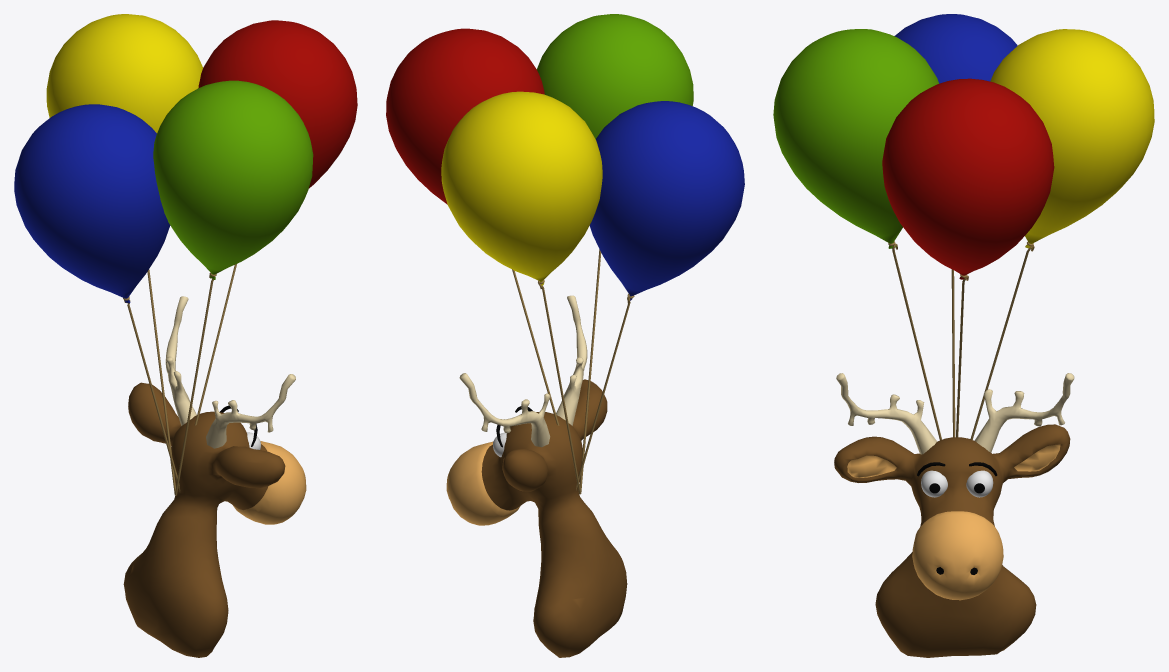
The model's file is reindeer-collectible.glb.
3 views of the same model, side by side, from view 1: azimuth 30°, elevation 25°; view 2: azimuth 150°, elevation 25°; view 3: azimuth 270°, elevation 25° (orthographic). The views are drawn at different scales.
Visible parts, largest first — view 1: Collectible; view 2: Collectible; view 3: Collectible.
Part boxes in pixels (x1,y1,x2,y2): Collectible: (14,14,357,657); Collectible: (386,14,744,657); Collectible: (773,14,1154,657).
Bounding box in the file's own units: 1.62 × 2.74 × 1.52.
